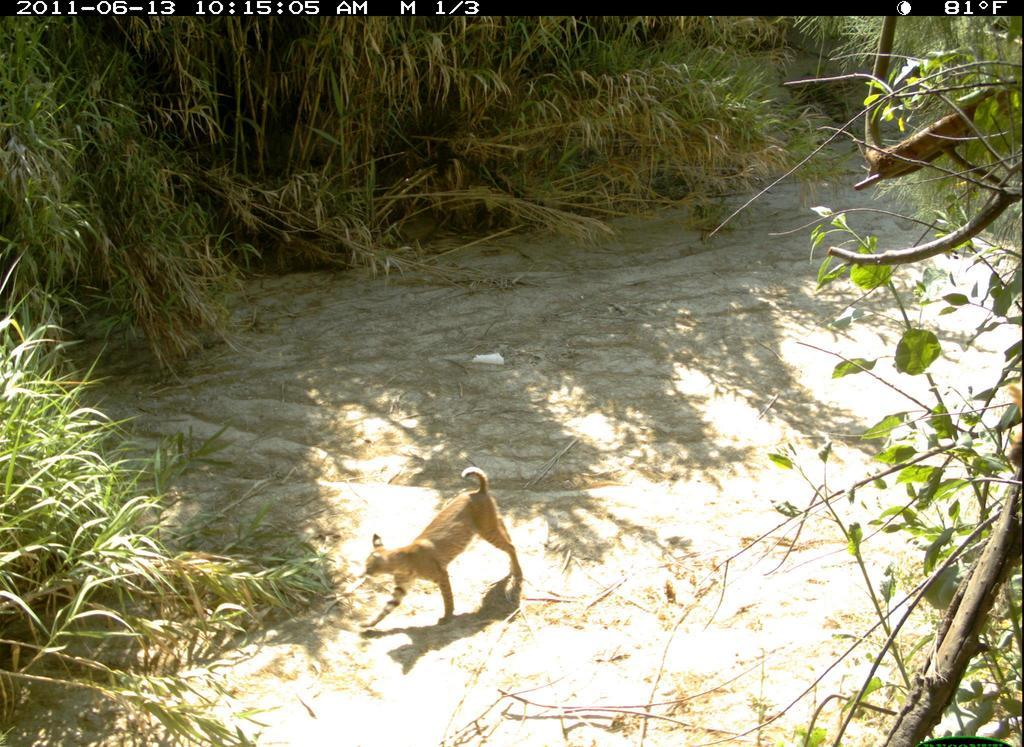bobcat: (345, 461, 545, 633)
